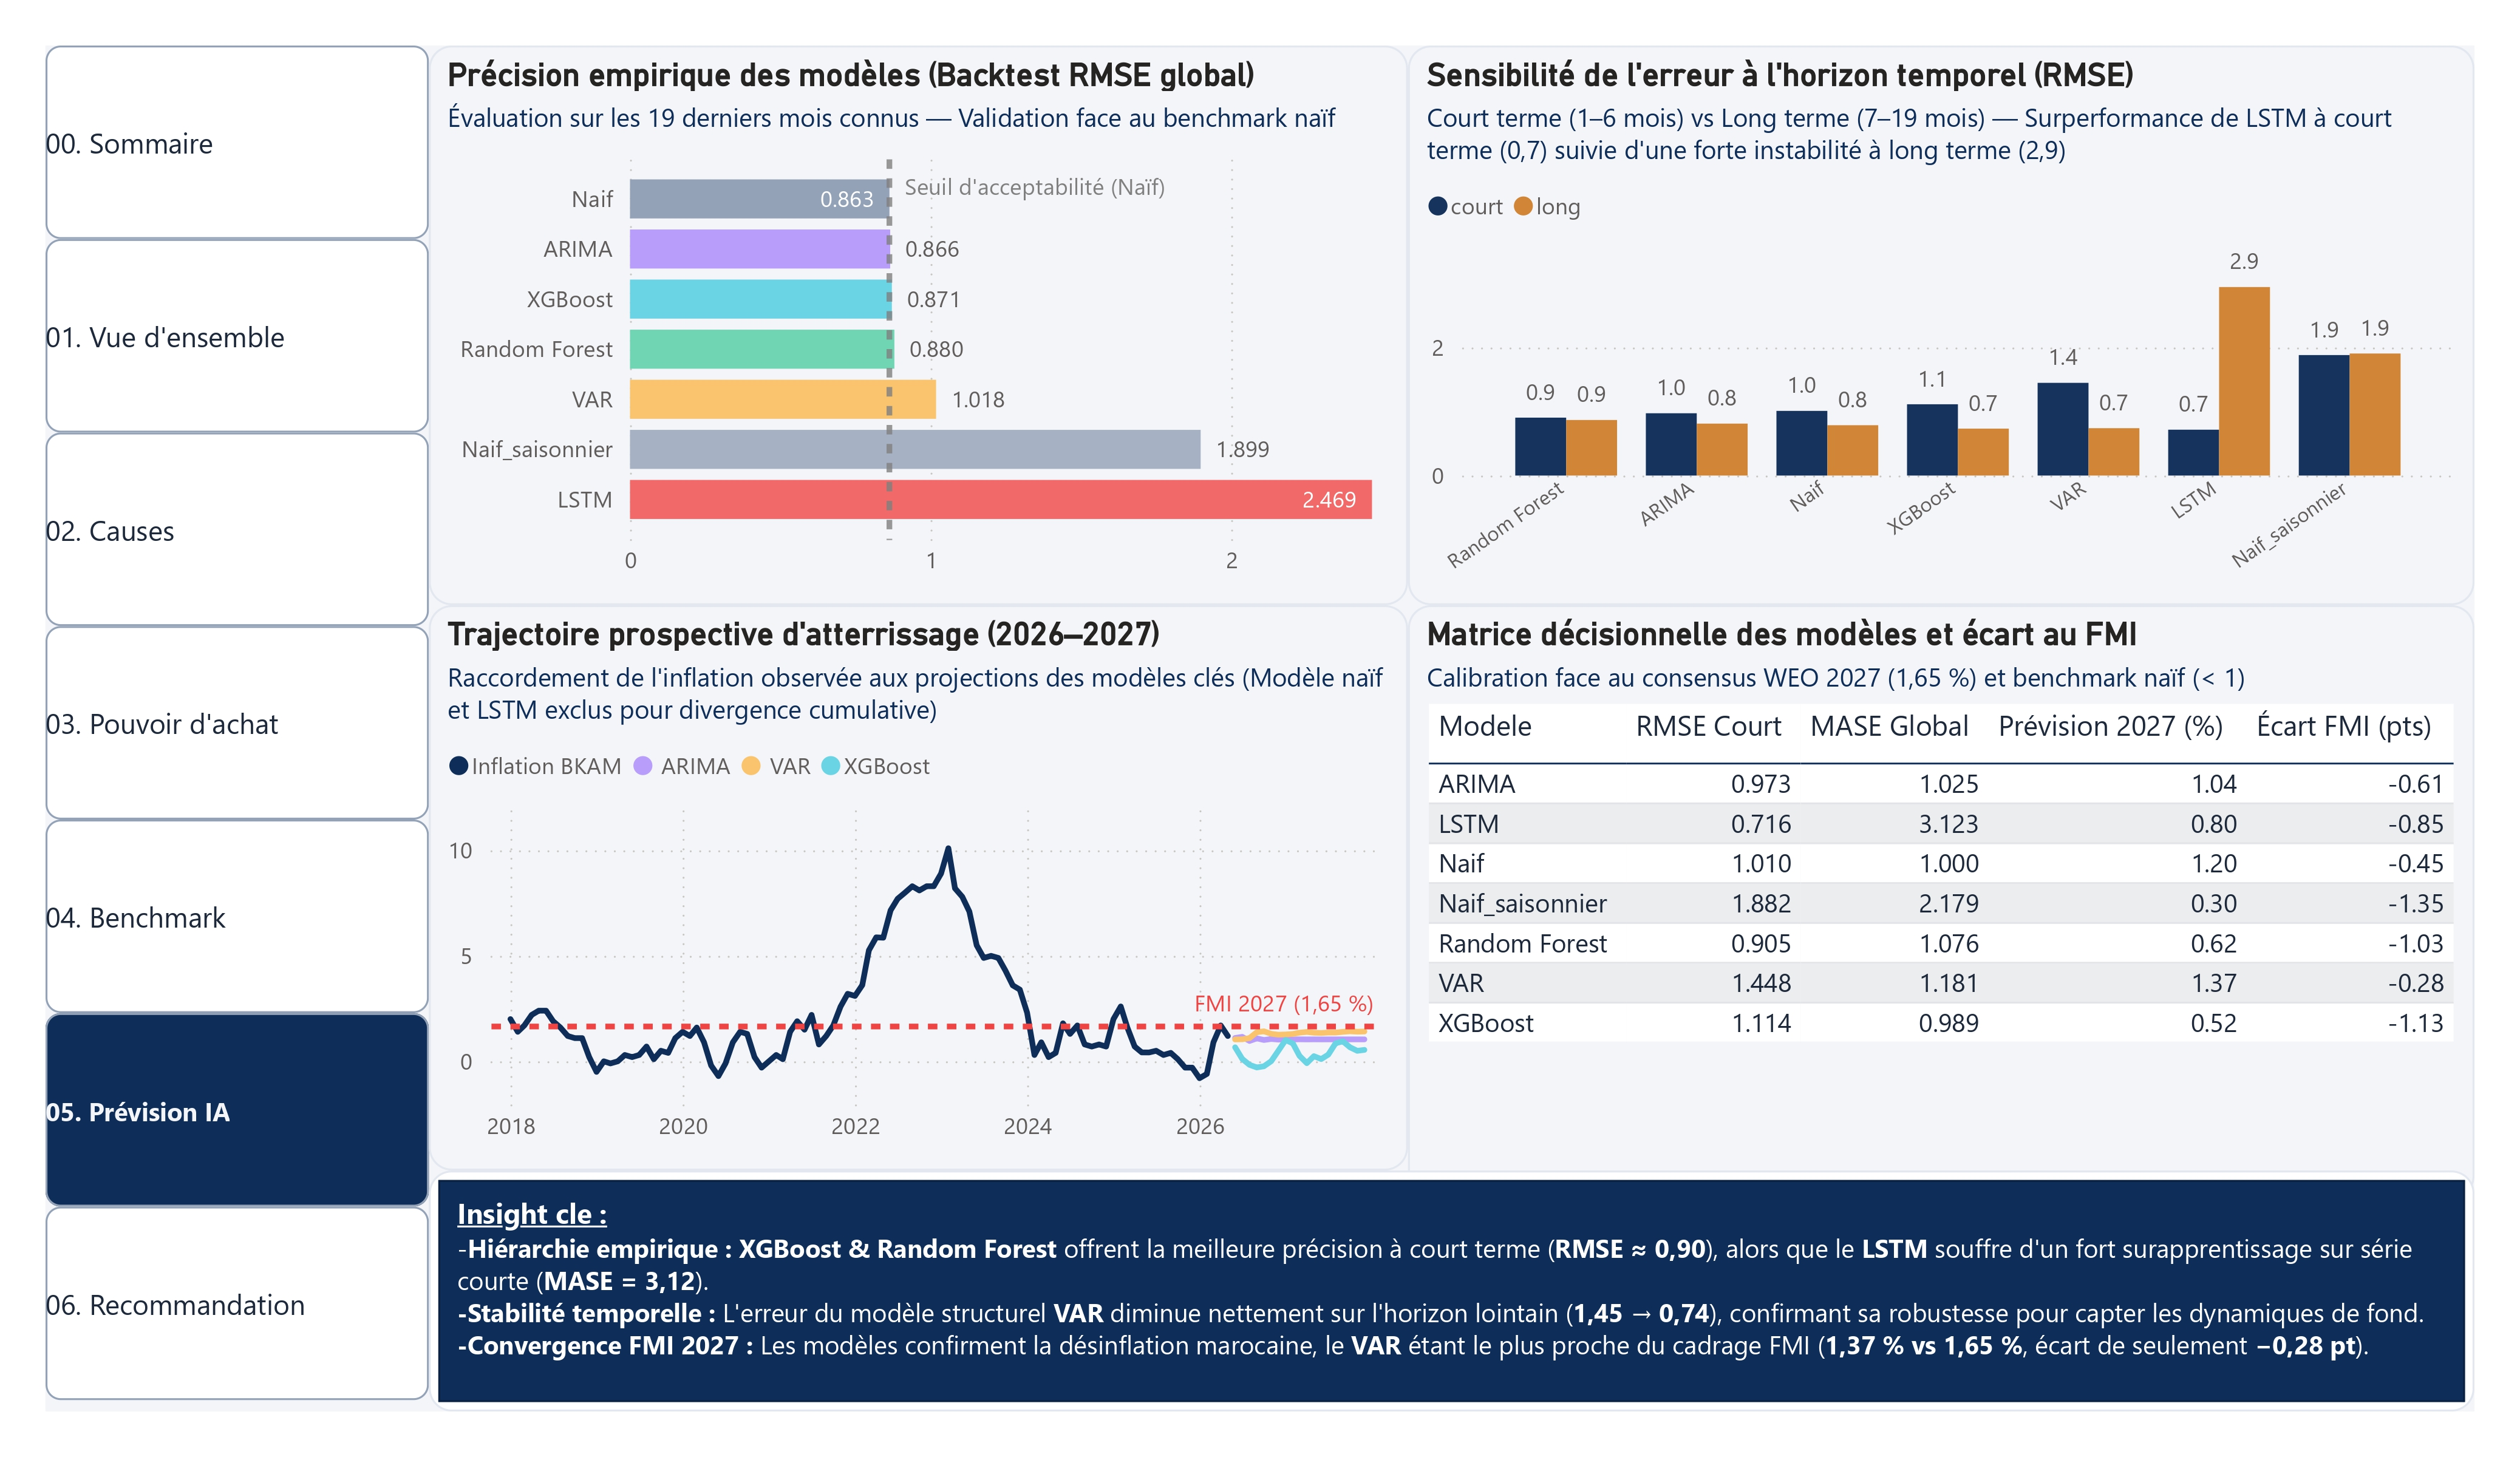

Layout of this report page (visuals, bound fields, positions):
{"tool":"powerbi","page":{"name":" 05. Prévision IA","canvas":[1280,720],"ordinal":5},"visuals":[{"type":"pageNavigator","box":[0,0,201.9,719.2],"z":0},{"type":"clusteredBarChart","title":"Précision empirique des modèles (Backtest RMSE global)","fields":{"Y":["_Mesures.Backtest_RMSE_Global"],"Category":["Dim_Modeles.Modele"]},"box":[201.7,0,516.7,295],"z":1000},{"type":"lineChart","title":"Trajectoire prospective d''atterrissage (2026–2027)","fields":{"Category":["Calendrier.Date"],"Y":["Sum(Fait_Inflation.Inflation_BKAM)","Sum(Fait_Previsions.ARIMA)","Sum(Fait_Previsions.VAR)","Sum(Fait_Previsions.XGBoost)"]},"box":[201.7,295,516.7,298.3],"z":2000},{"type":"clusteredColumnChart","title":"Sensibilité de l''erreur à l''horizon temporel (RMSE)","fields":{"Category":["Fait_Backtest.Modele"],"Y":["Sum(Fait_Backtest.Valeur_Metrique)"],"Series":["Fait_Backtest.Horizon"]},"box":[718.3,0,561.7,295],"z":3000},{"type":"tableEx","title":"Matrice décisionnelle des modèles et écart au FMI","fields":{"Values":["Dim_Modeles.Modele","_Mesures.Scorecard_RMSE_Court","_Mesures.Scorecard_MASE_Global","_Mesures.Scorecard_Prevision_2027","_Mesures.Scorecard_Ecart_FMI_2027"]},"box":[718.3,295,561.7,313.3],"z":4000},{"type":"shape","box":[201.7,593.3,1078.3,126.7],"z":5000},{"type":"textbox","box":[211.7,600,1060,111.7],"z":6000}]}

Visuals, with their boxes on the page's 1280x720 design canvas (x1, y1, x2, y2). These are canvas units, not pixel positions in the 2520x1457 screenshot, which may show the page scaled, cropped or inside an application window:
pageNavigator: 0 0 202 719
"Précision empirique des modèles (Backtest RMSE global)" clusteredBarChart: 202 0 718 295
"Trajectoire prospective d''atterrissage (2026–2027)" lineChart: 202 295 718 593
"Sensibilité de l''erreur à l''horizon temporel (RMSE)" clusteredColumnChart: 718 0 1280 295
"Matrice décisionnelle des modèles et écart au FMI" tableEx: 718 295 1280 608
shape: 202 593 1280 720
textbox: 212 600 1272 712
